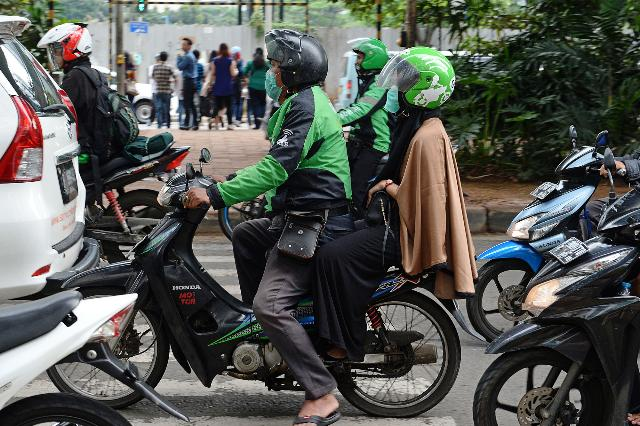helm: (381, 47, 460, 118), (260, 31, 328, 106), (35, 20, 98, 76), (350, 37, 392, 83)
motor: (82, 146, 461, 426), (469, 124, 640, 348), (477, 197, 640, 426)
